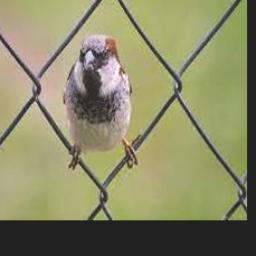Sparrow: (64, 34, 133, 155)
